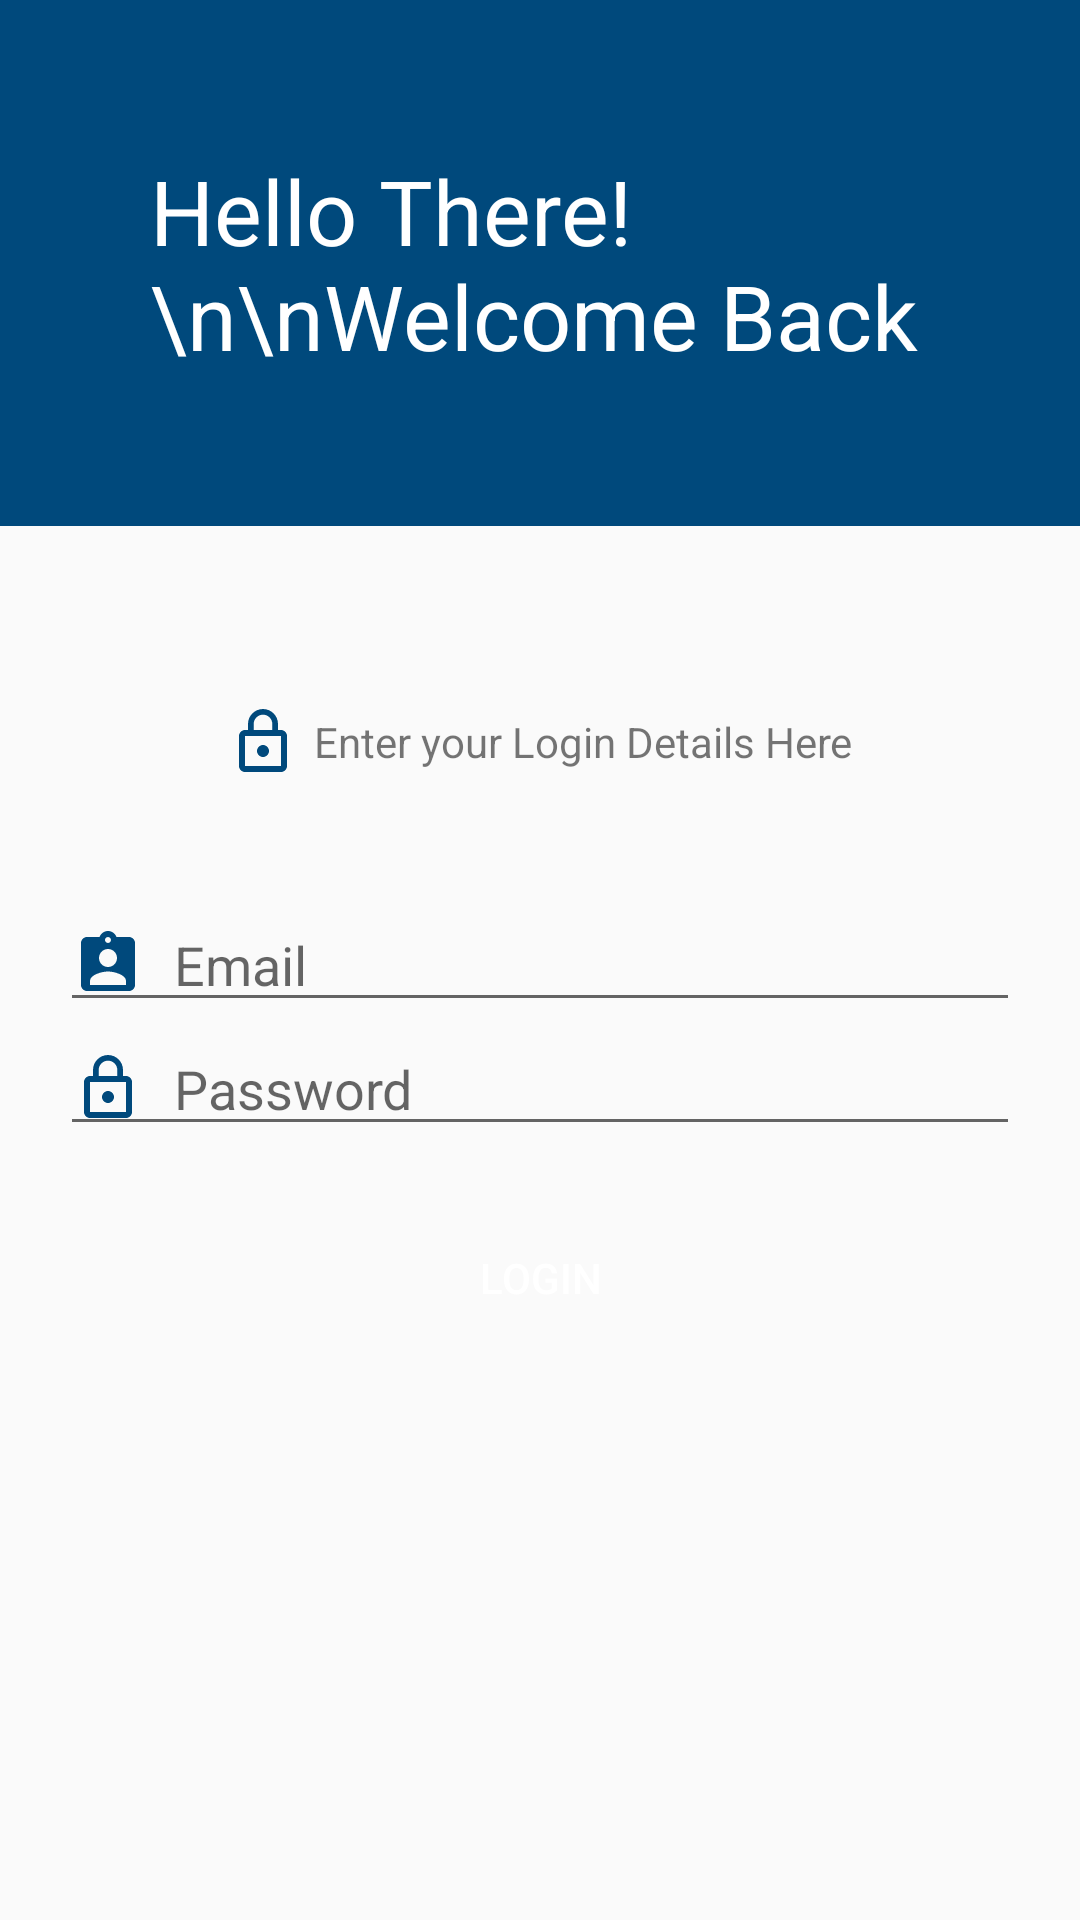

Where icons sit on this 1080 × 1920 app screen, as (x1, y1, x2, y2):
lock: (239, 709, 287, 772)
